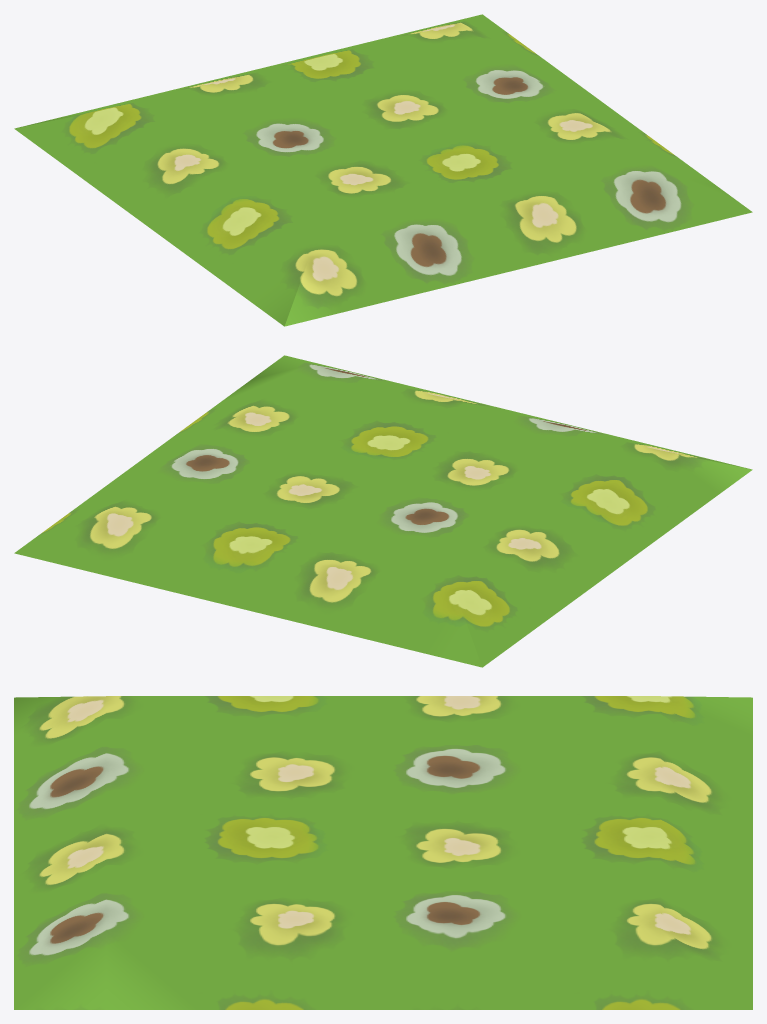
The model's file is field_4x4.obj.
The picture shows the model from 3 angles, top to bottom: view 1: azimuth 30°, elevation 25°; view 2: azimuth 150°, elevation 25°; view 3: azimuth 270°, elevation 25°; orthographic projection. The views are drawn at different scales.
Visible parts, largest first — view 1: polySurface7 polySurface5; view 2: polySurface7 polySurface5; view 3: polySurface7 polySurface5.
Part boxes in pixels (x1,y1,x2,y2): polySurface7 polySurface5: (14, 14, 752, 326); polySurface7 polySurface5: (14, 355, 752, 667); polySurface7 polySurface5: (14, 696, 752, 1009).
Size of the model in its own units: 800 by 48.26 by 800.
